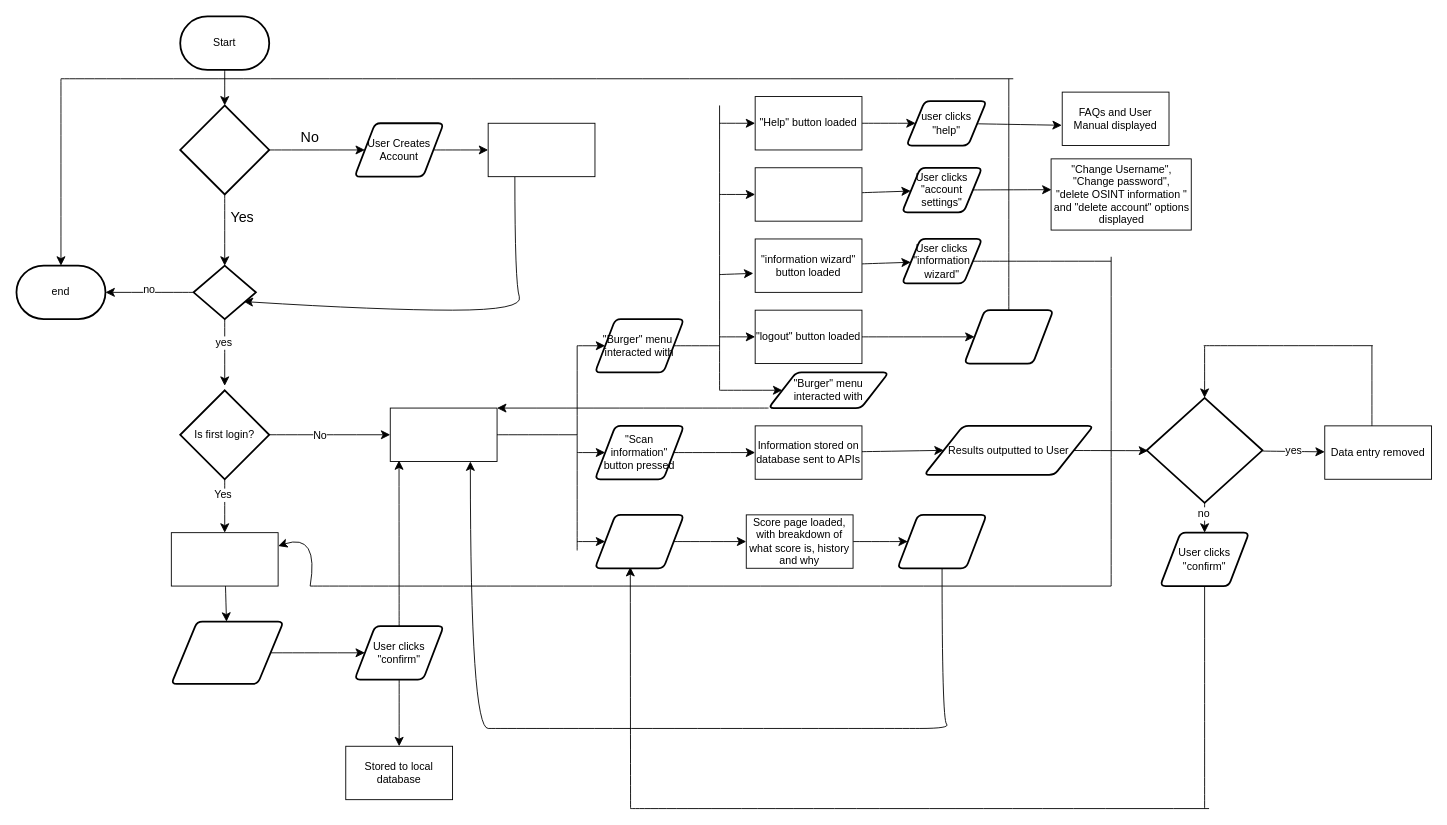
Image size: 1447x825. Some labels were removed from this diagram. Here are the shapes that lost their labels. From the top down, the centre of each, then its label:
the point at 224,149: Is User registered?
the point at 541,149: User Account Stored to local database
the point at 808,194: "Account settings" button loaded
the point at 224,292: User log in
the point at 1008,336: User Clicks "logout"
the point at 443,434: Main Page Loaded
the point at 1204,449: Does User click "not you?" on data entry?
the point at 224,559: Information wizard loaded
the point at 639,541: "Score" button interacted with
the point at 941,541: "back" arrow pressed
the point at 227,652: user enters required/optional information
